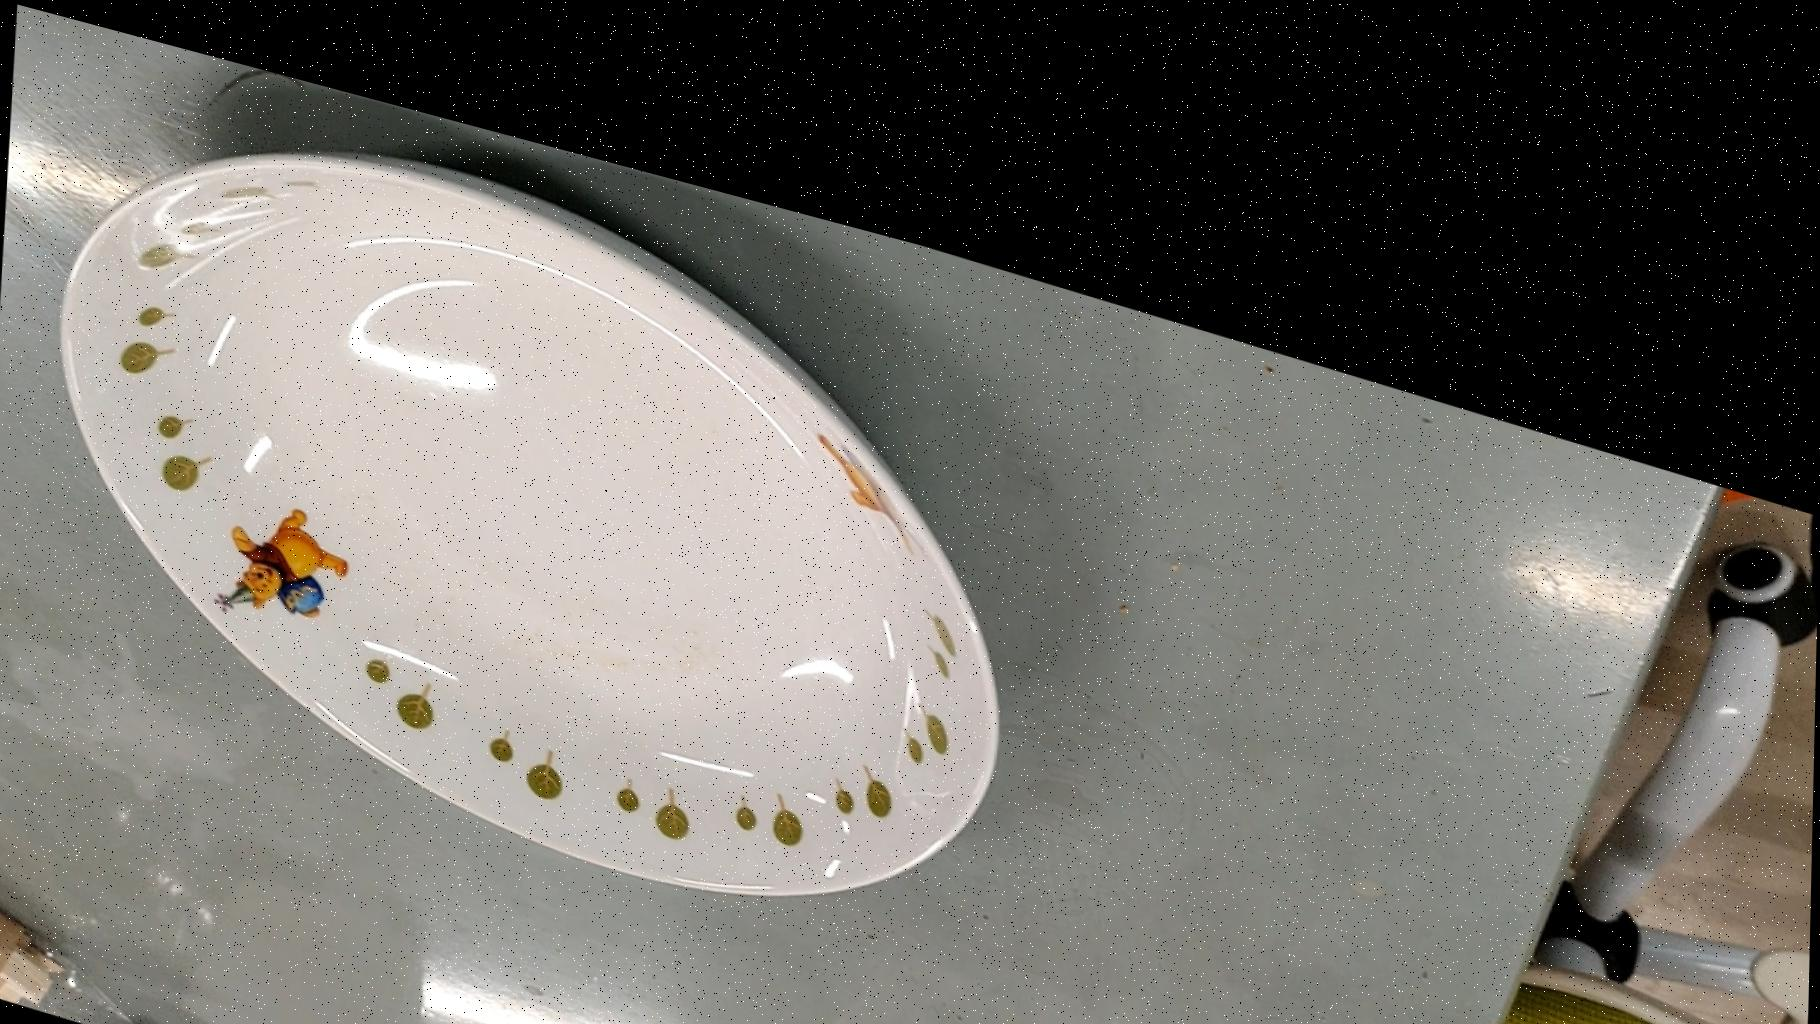plate: (42, 43, 1022, 931)
